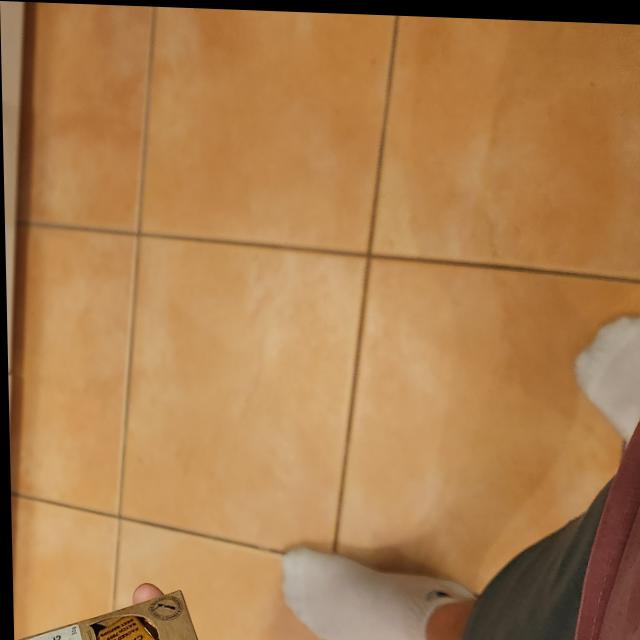cajun: (10, 585, 216, 640)
